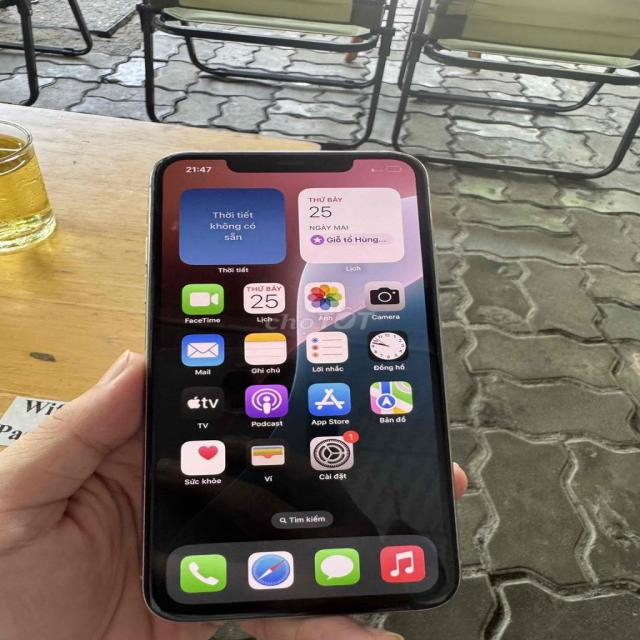gen_11: (140, 148, 464, 624)
